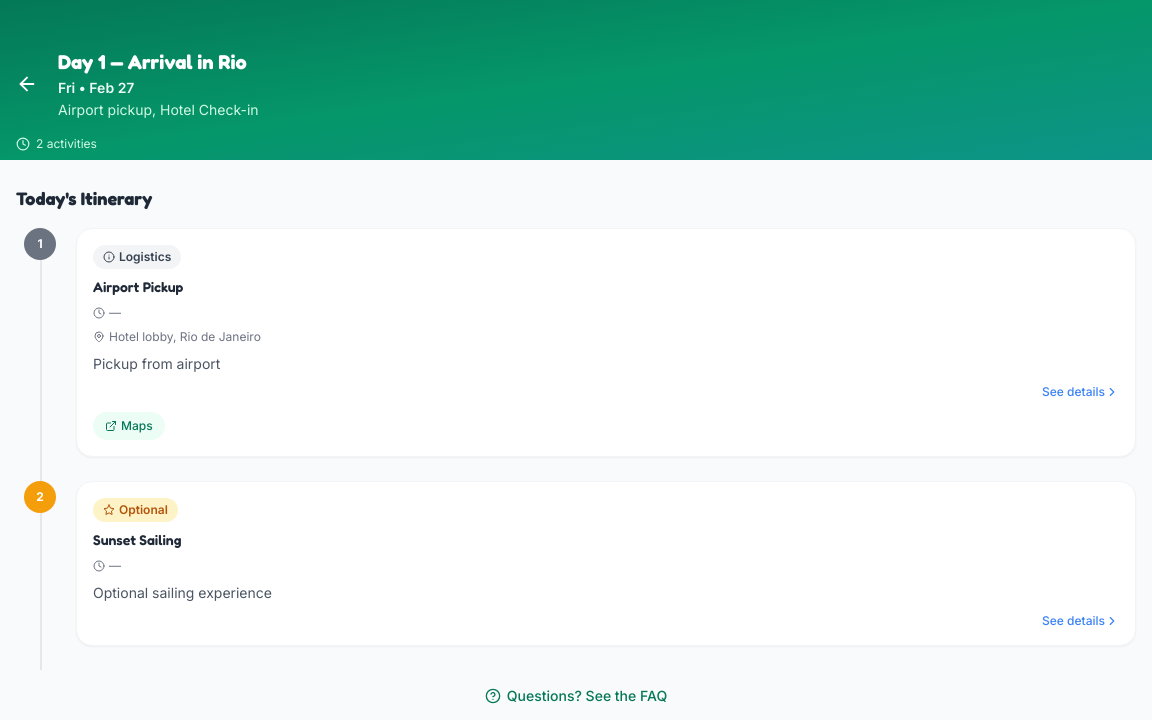
it: DayDetails › does not show prices or booking buttons for optional activities
Click the heading "Sunset Sailing" at (137,539), box [93,531,181,548]
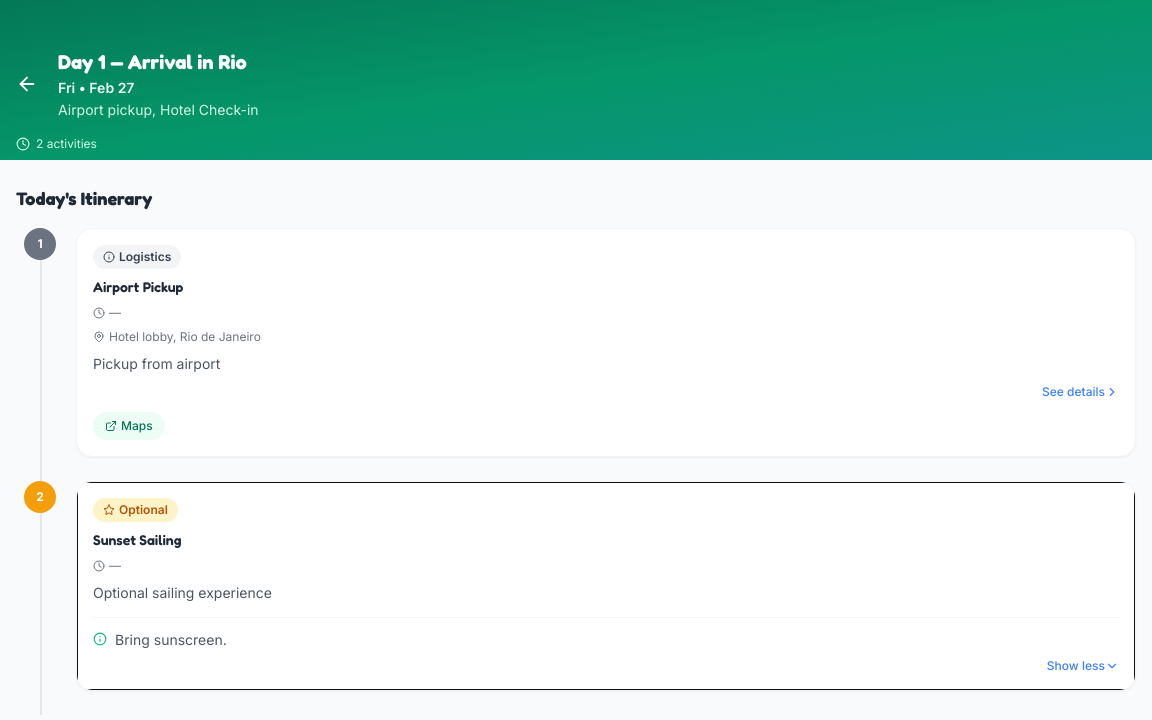
Expected: the text "Bring sunscreen." is shown, [115,630,227,650]
